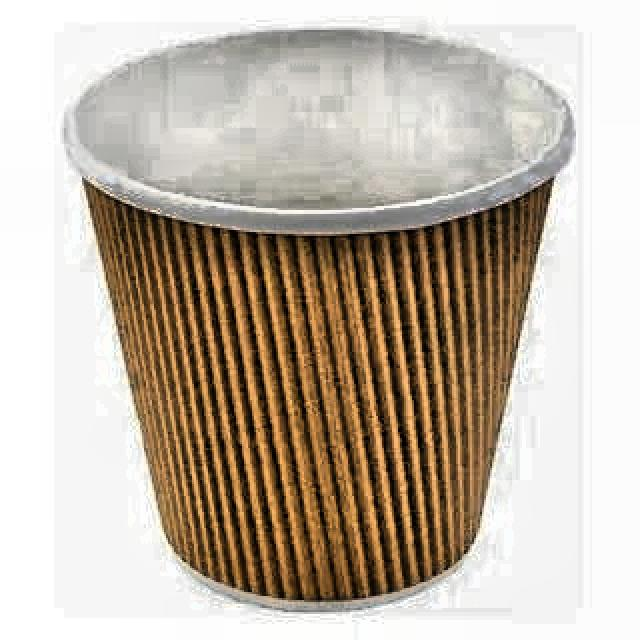Cup: (64, 12, 586, 622)
